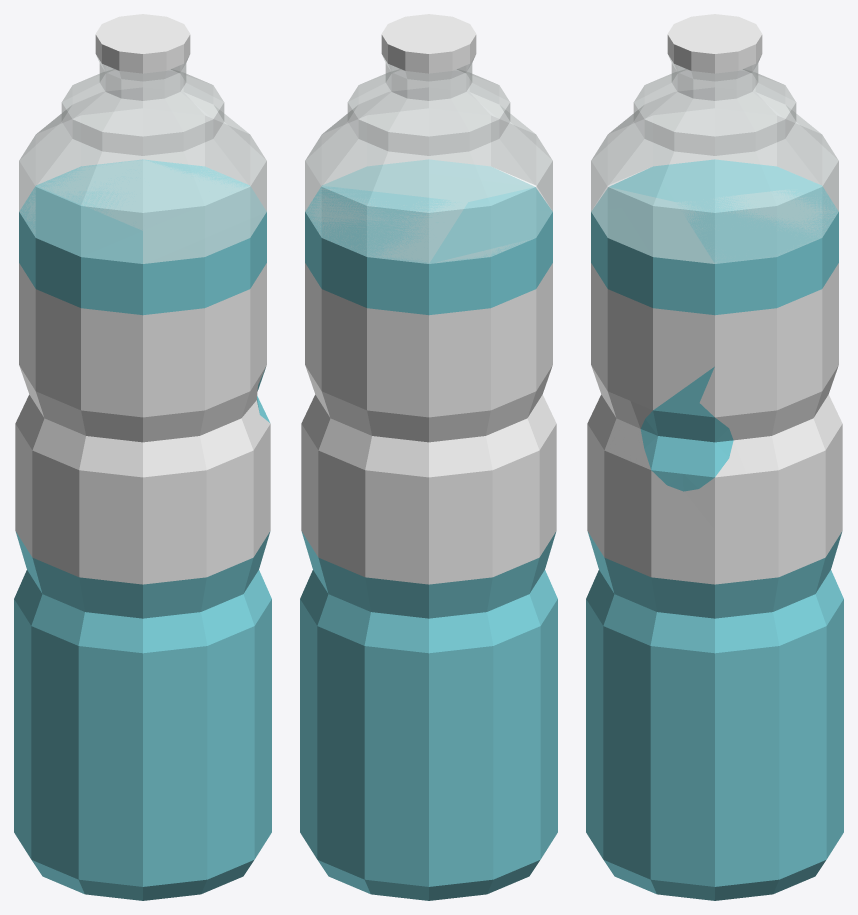
File: Water Bottle (1).glb
The picture shows the model from 3 angles, left to right: view 1: azimuth 30°, elevation 25°; view 2: azimuth 150°, elevation 25°; view 3: azimuth 270°, elevation 25°; orthographic projection.
Visible parts, largest first — view 1: group1869619761; view 2: group1869619761; view 3: group1869619761.
Part boxes in pixels (<box>): group1869619761: <box>14,14,271,900</box>; group1869619761: <box>300,14,557,900</box>; group1869619761: <box>586,14,843,900</box>.
Bounding box in the file's own units: 0.24 × 0.84 × 0.24.
